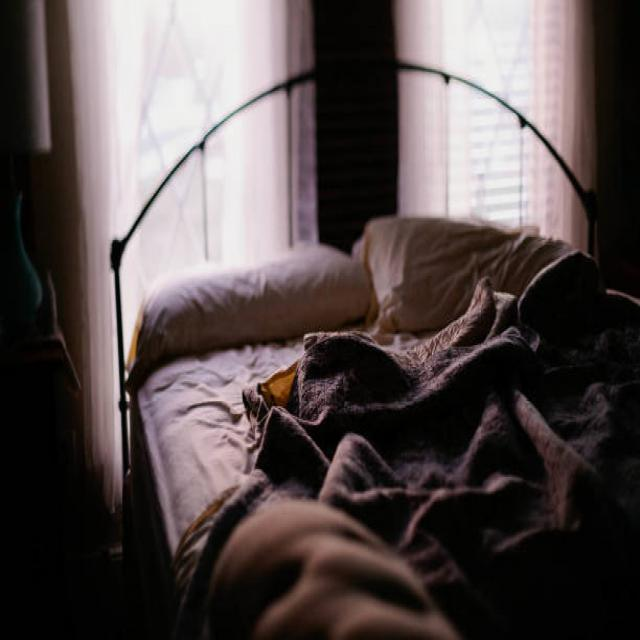bed: (104, 196, 635, 640)
